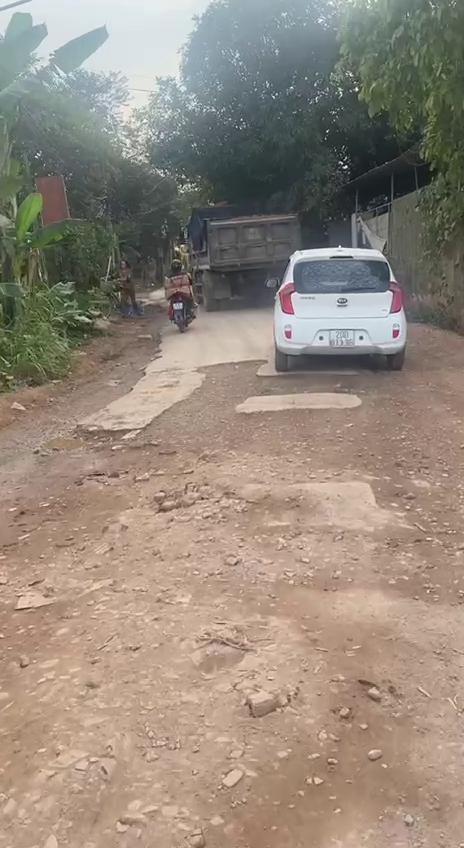pothole: (0, 411, 275, 604), (146, 359, 373, 496), (347, 375, 464, 612)
